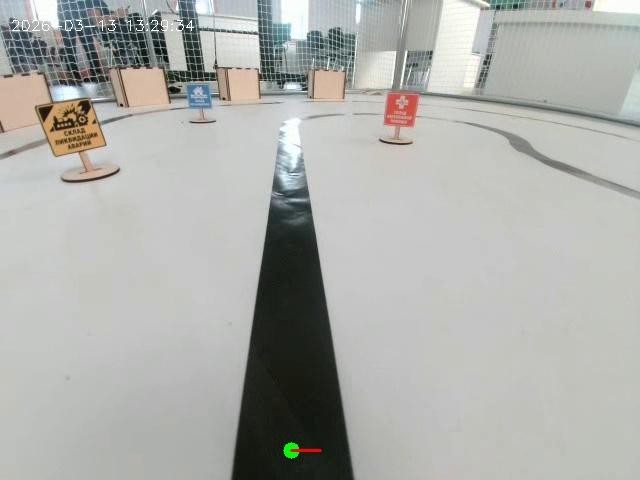flood: (188, 71, 225, 129)
industrial: (34, 90, 116, 195)
medical: (384, 82, 426, 150)
